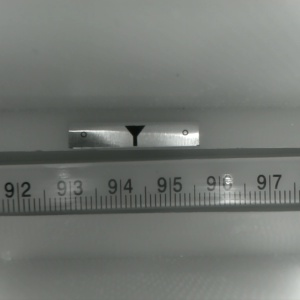2: (20, 182, 31, 198)
3: (72, 180, 82, 196)
4: (122, 178, 132, 193)
5: (172, 177, 182, 192)
7: (272, 175, 282, 190)
9: (3, 182, 14, 198), (205, 176, 216, 191), (157, 177, 167, 193), (256, 175, 266, 190), (107, 179, 117, 194), (56, 181, 66, 196), (223, 176, 233, 190)
finger: (122, 126, 145, 147)
